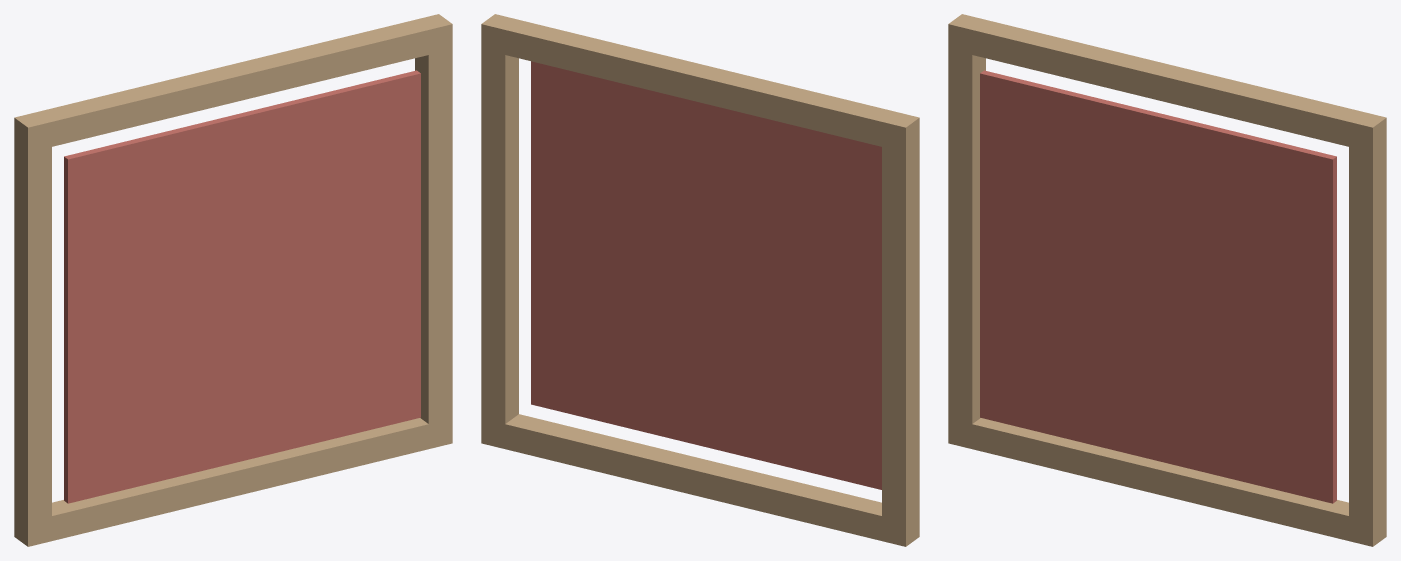
File: art_frame_01.glb
The picture shows the model from 3 angles, left to right: view 1: azimuth 30°, elevation 25°; view 2: azimuth 150°, elevation 25°; view 3: azimuth 330°, elevation 25°; orthographic projection.
Parts seen in each view (by area): view 1: art, h0.63, v-0.335, h0, v0.335; view 2: art, h0.63, h0, v-0.335, v0.335; view 3: art, h0.63, v0.335, h0, v-0.335.
Part boxes in pixels (x1,y1,x2,y2): art: [64, 70, 420, 503]; h0.63: [14, 14, 452, 150]; v-0.335: [14, 130, 51, 534]; h0: [14, 418, 452, 546]; v0.335: [415, 37, 452, 436]; art: [531, 61, 881, 489]; h0.63: [481, 14, 919, 152]; h0: [481, 414, 919, 546]; v-0.335: [882, 130, 919, 534]; v0.335: [481, 37, 518, 436]; art: [980, 70, 1336, 503]; h0.63: [948, 14, 1386, 151]; v0.335: [1349, 130, 1386, 534]; h0: [948, 418, 1386, 546]; v-0.335: [948, 36, 985, 436].
Bounding box in the file's own units: 0.71 × 0.67 × 0.052.
